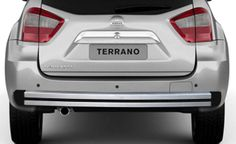number_plate: (89, 42, 148, 60)
